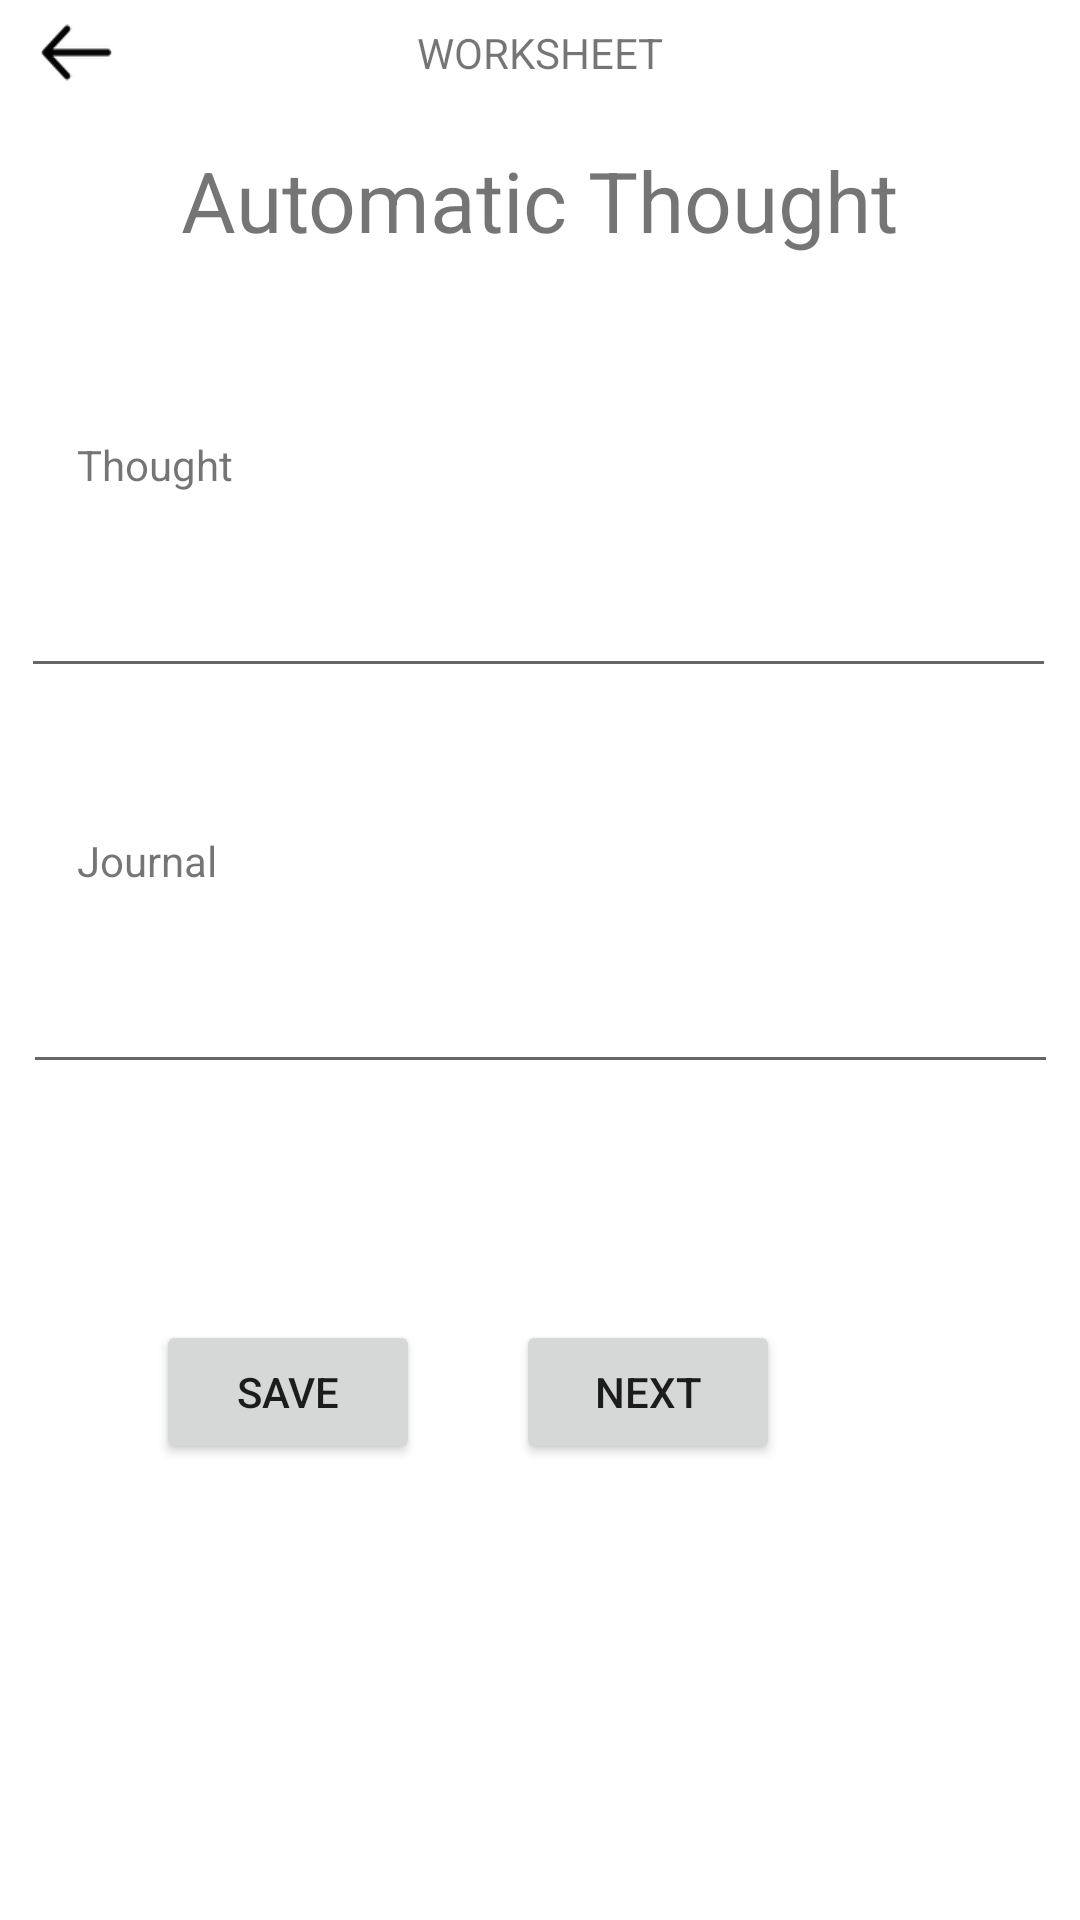

Where icons sit on this 1080px×1920px app screen, as bbox=[x1, y1, x2, y2]:
back: bbox=[41, 24, 112, 81]
